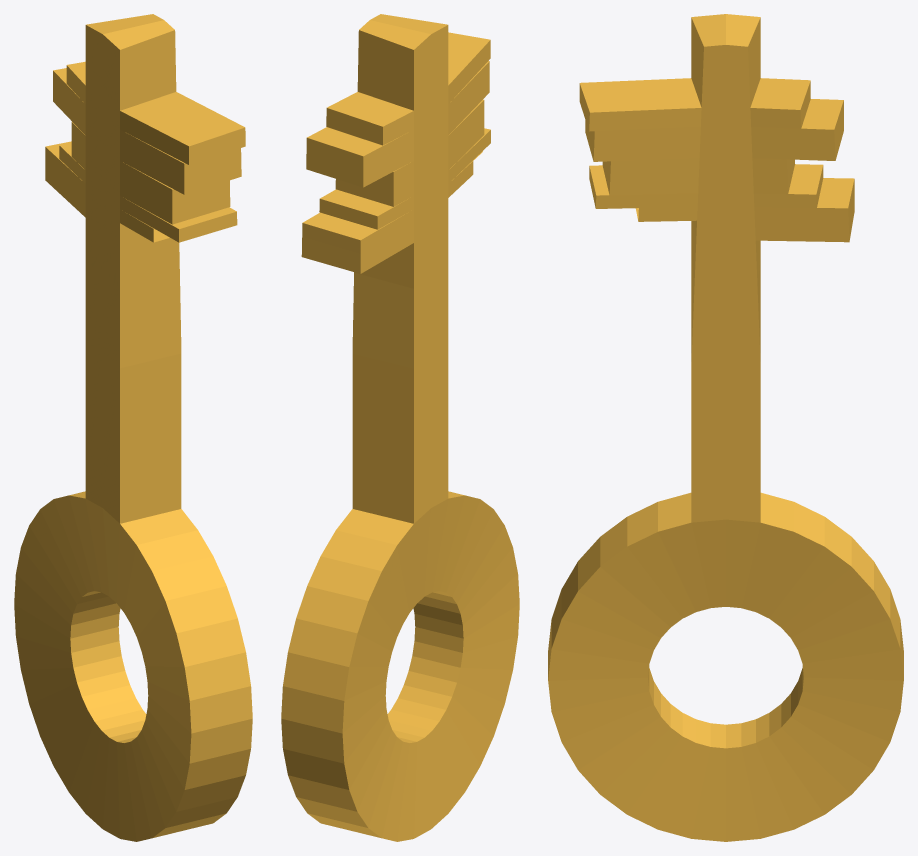
File: llave.fbx
3 renders of one model, left to right at view 1: azimuth 30°, elevation 25°; view 2: azimuth 150°, elevation 25°; view 3: azimuth 270°, elevation 25°, orthographic.
Visible parts, largest first — view 1: Cylinder; view 2: Cylinder; view 3: Cylinder.
Boxes of the visible parts, x1,y1,x2,y2 form: Cylinder: [14, 14, 252, 841]; Cylinder: [281, 14, 519, 841]; Cylinder: [548, 14, 903, 841].
Bounding box in the file's own units: 24.38 × 247 × 100.
Materials: 1 (1 with a texture image).
